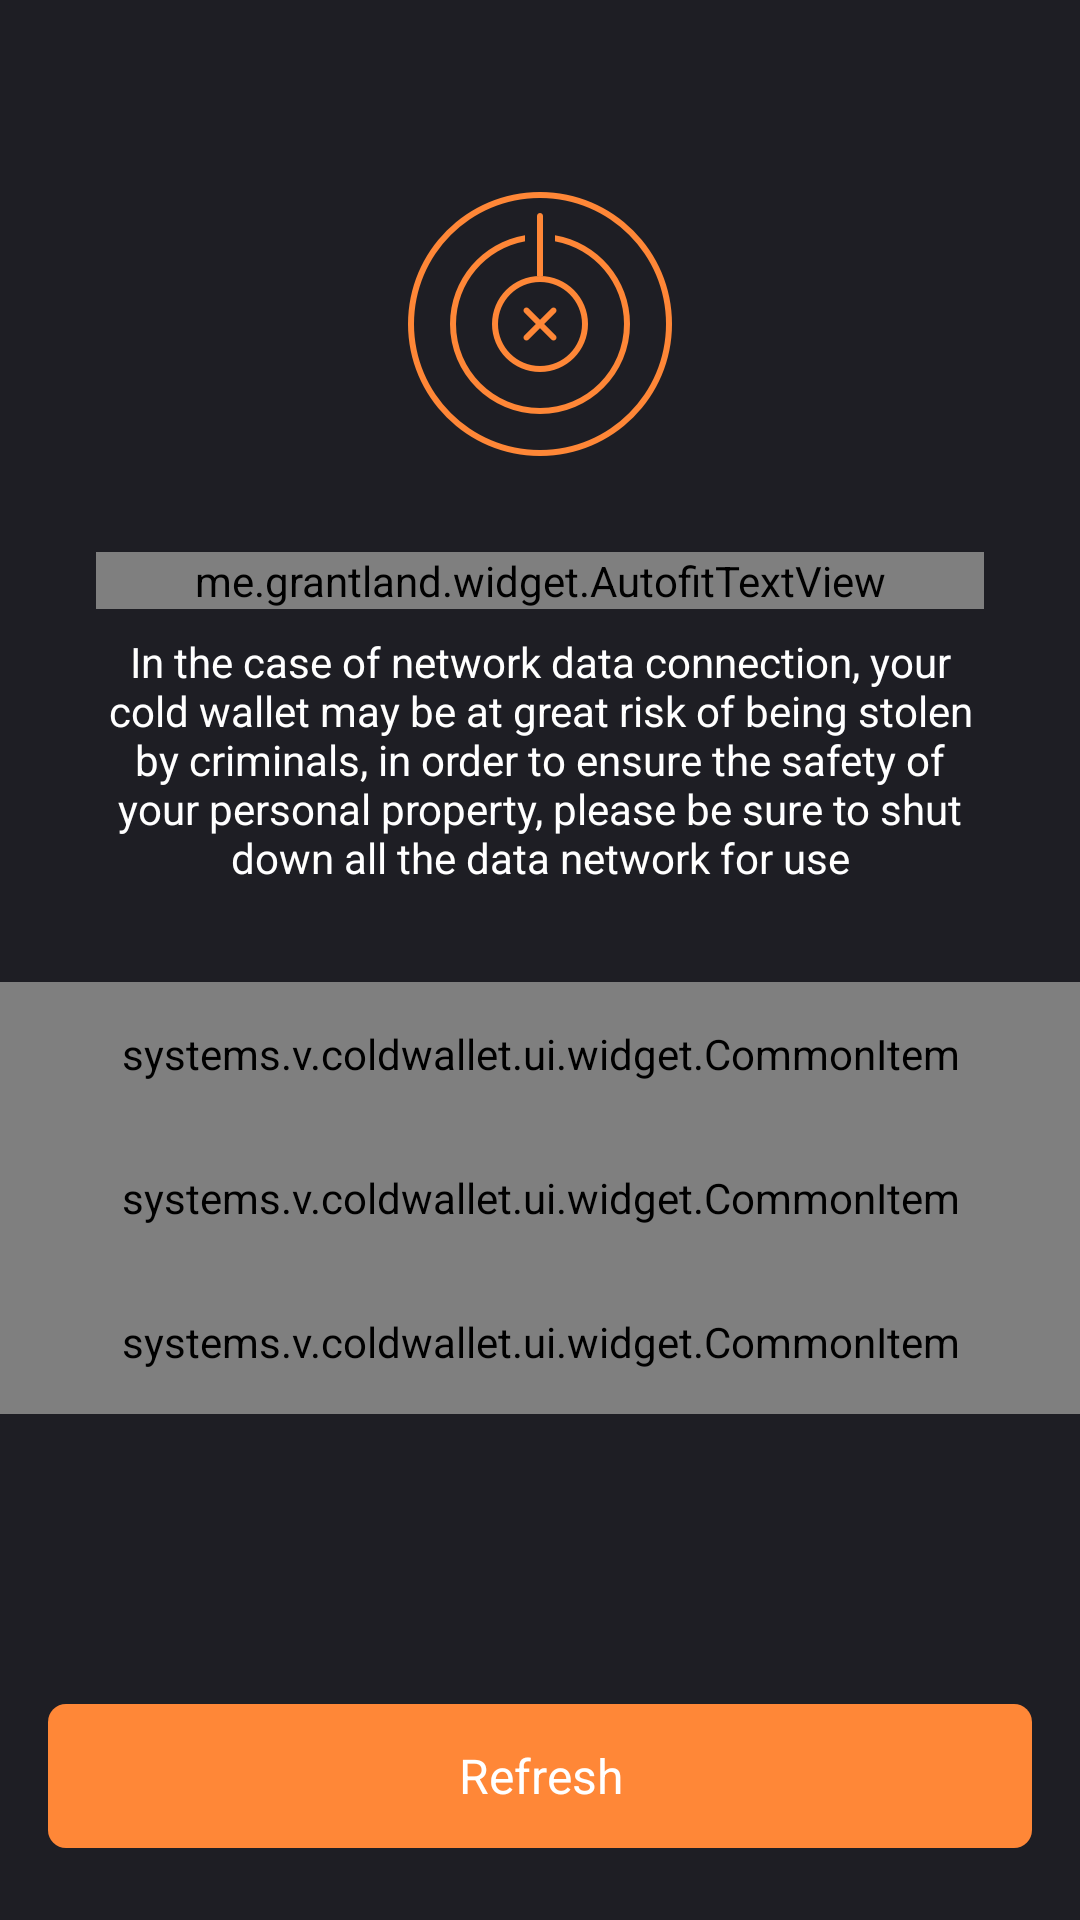

Where icons sit on this 1080x1920 app screen, as (x1, y1, x2, y2):
monitor unsafe: (408, 192, 672, 456)
